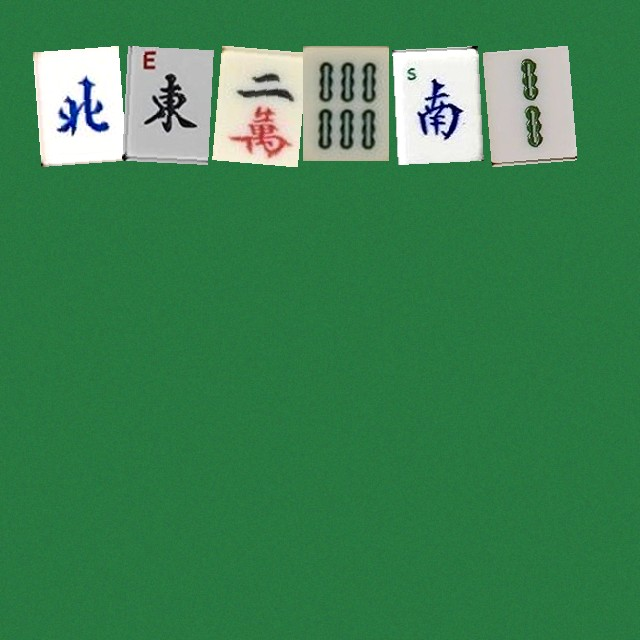tile: (32, 45, 118, 160), (122, 45, 208, 160), (212, 45, 298, 160), (302, 45, 388, 160), (392, 45, 478, 160), (482, 45, 568, 160)
